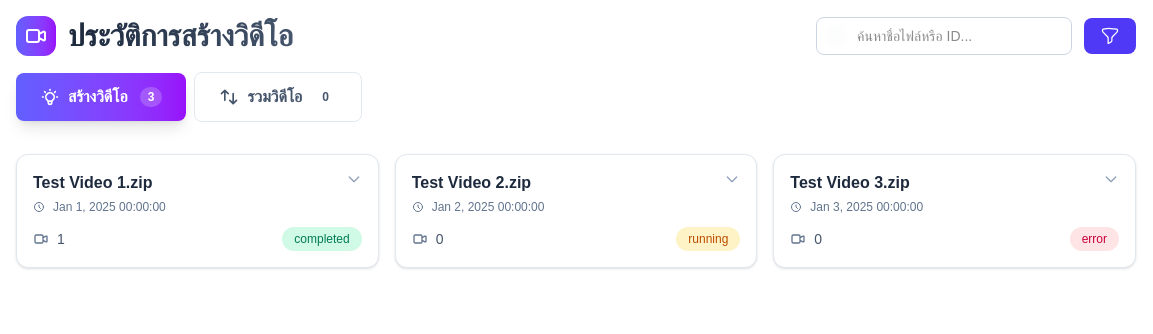
Test: MyVideos Component › 8. should filter videos by search term
Expected: the heading "Test Video 1.zip" is shown, [33,174,152,191]
Type "Test Video 1" into the field with placeholder "ค้นหาชื่อไฟล์หรือ ID..." at (944, 36), box [816,17,1072,55]
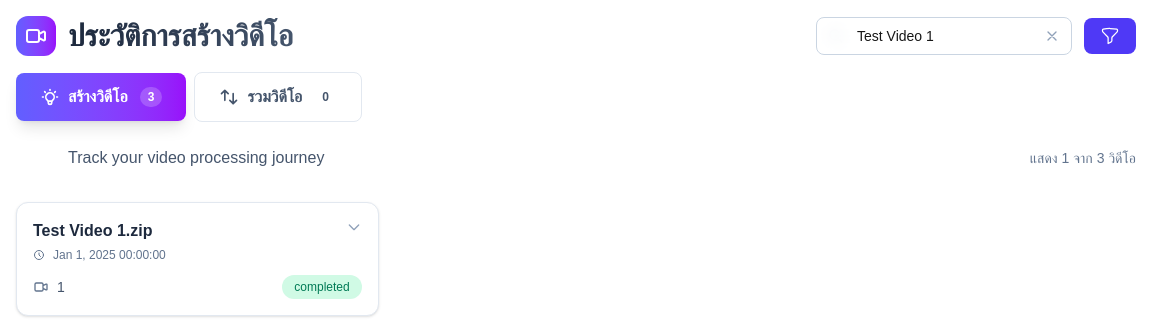
Expected: the heading "Test Video 1.zip" is shown, [33,222,152,239]
Result: the heading "Test Video 2.zip" is gone
Replace the text in the field with placeholder "ค้นหาชื่อไฟล์หรือ ID..." with "exec-124" at (944, 36), box [816,17,1072,55]
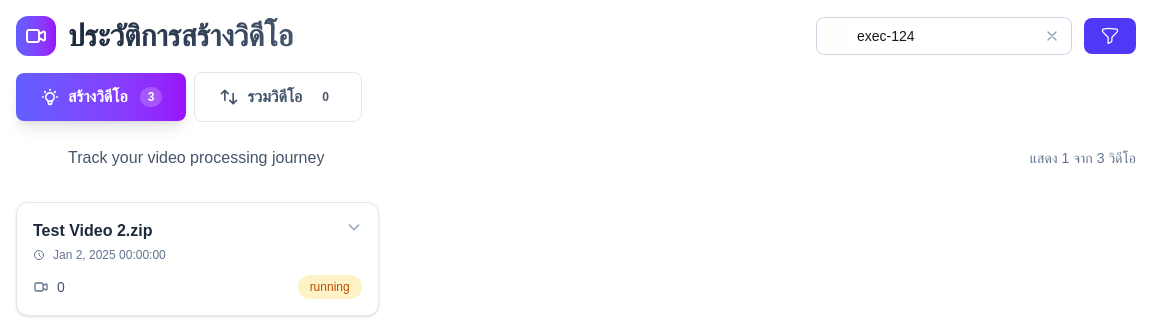
Result: the 1st button is shown
Result: the heading "Test Video 2.zip" is shown at [33,222,152,239]
Result: the heading "Test Video 1.zip" is gone
Click the 1st button at (1058, 36), box [1044,17,1072,55]
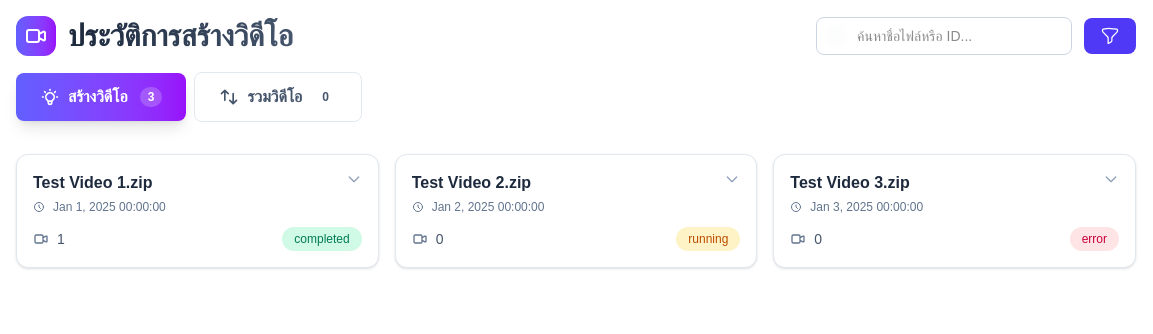
Result: the heading "Test Video 1.zip" is shown at [33,174,152,191]
